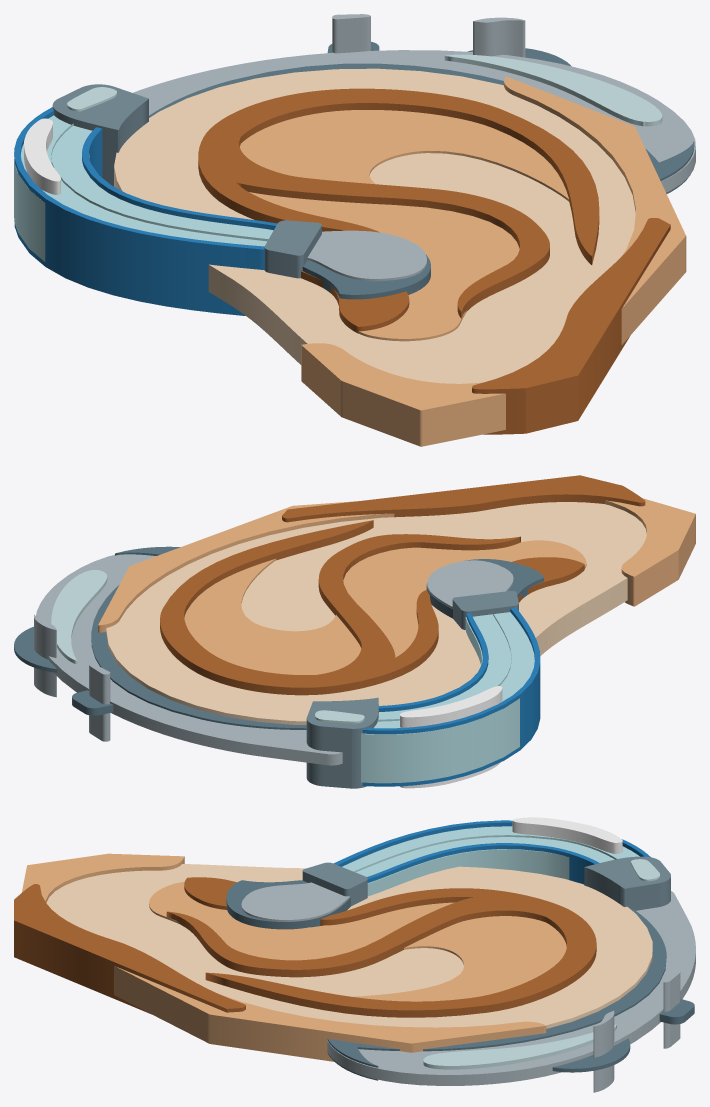
Rendered from emoji_u1f9bb_1f3fb.glb.
The picture shows the model from 3 angles, top to bottom: view 1: azimuth 30°, elevation 25°; view 2: azimuth 150°, elevation 25°; view 3: azimuth 270°, elevation 25°; orthographic projection. The views are drawn at different scales.
Visible parts, largest first — view 1: emoji_u1f9bb_1f3fb; view 2: emoji_u1f9bb_1f3fb; view 3: emoji_u1f9bb_1f3fb.
Part boxes in pixels (left/top/right/bottom): emoji_u1f9bb_1f3fb: left=14, top=14, right=695, bottom=446; emoji_u1f9bb_1f3fb: left=14, top=475, right=695, bottom=788; emoji_u1f9bb_1f3fb: left=14, top=817, right=695, bottom=1092.
Bounding box in the file's own units: 0.0271 × 0.0038 × 0.0336.
